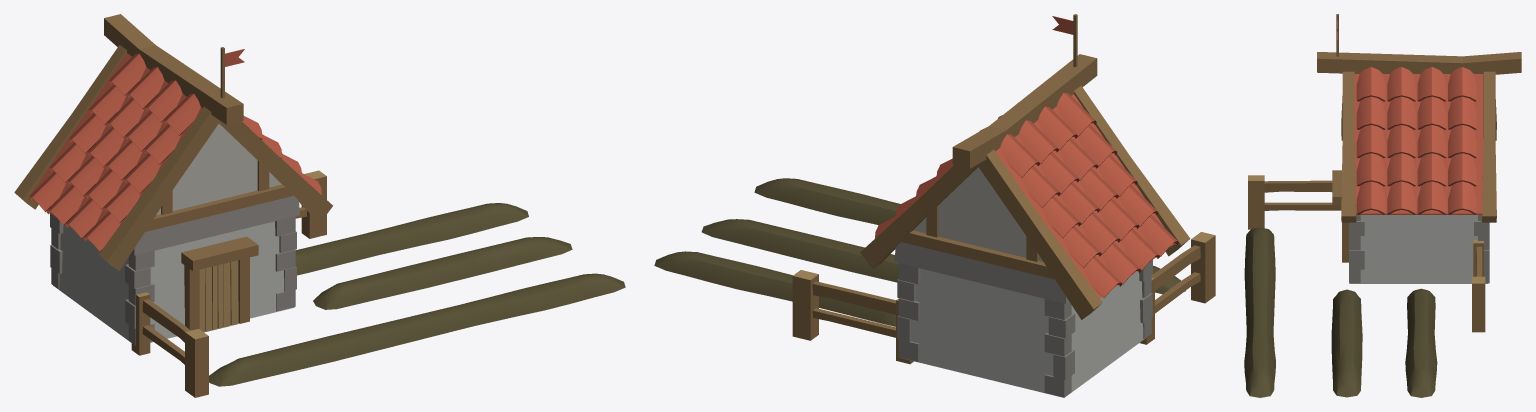
File: quaternius-ultimate-fantasy-rts-farm-secondage-level-1.glb
3 renders of one model, left to right at view 1: azimuth 30°, elevation 25°; view 2: azimuth 150°, elevation 25°; view 3: azimuth 270°, elevation 25°, orthographic. The views are drawn at different scales.
Parts seen in each view (by area): view 1: Farm_SecondAge_Level1; view 2: Farm_SecondAge_Level1; view 3: Farm_SecondAge_Level1.
Boxes of the visible parts, x1,y1,x2,y2 form: Farm_SecondAge_Level1: (14, 14, 625, 397); Farm_SecondAge_Level1: (654, 14, 1215, 397); Farm_SecondAge_Level1: (1244, 14, 1521, 397).
Size of the model in its own units: 1.81 by 1.07 by 1.11.
Materials: 1 (1 with a texture image).
